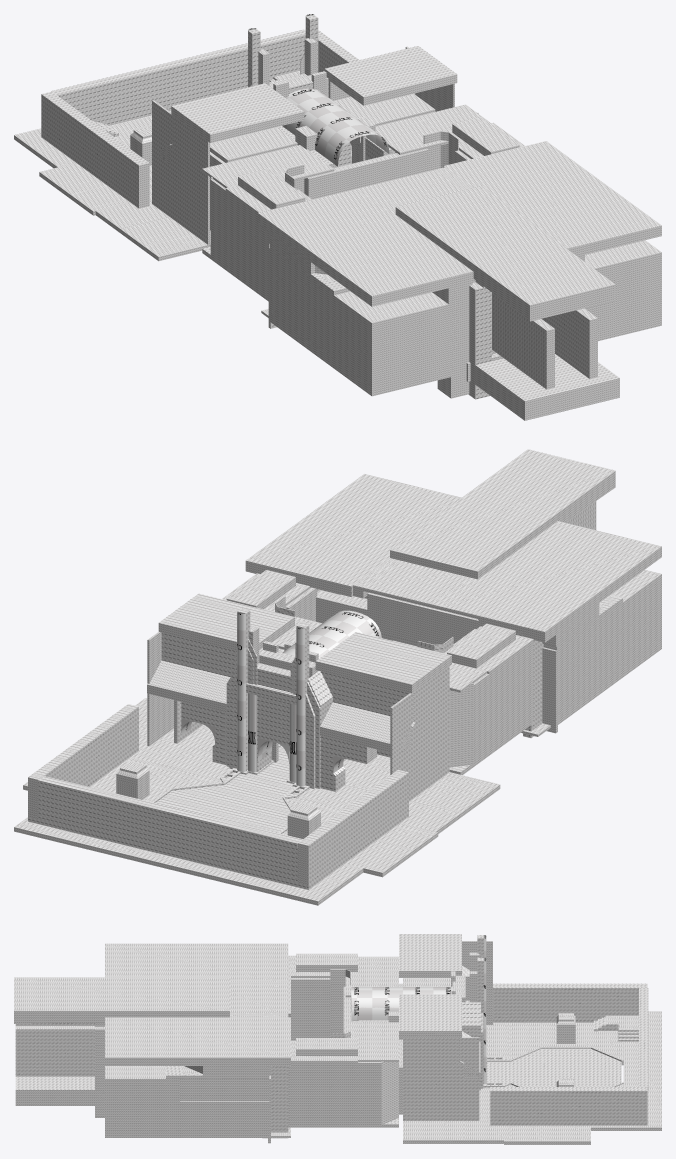
Rendered from q3dm1-clip.obj.
3 views of the same model, one above another, from view 1: azimuth 30°, elevation 25°; view 2: azimuth 150°, elevation 25°; view 3: azimuth 270°, elevation 25° (orthographic). The views are drawn at different scales.
Parts seen in each view (by area): view 1: entity0_brush381, entity0_brush154, entity0_brush153, entity0_brush58, entity0_brush40, entity0_brush144, entity0_brush174, entity0_brush22, entity0_brush24, entity0_brush151, entity0_brush56, entity0_brush148 (+36 smaller); view 2: entity0_brush381, entity0_brush154, entity0_brush153, entity0_brush58, entity0_brush40, entity0_brush22, entity0_brush24, entity0_brush56, entity0_brush202, entity0_brush244, entity0_brush384, entity0_brush57 (+42 smaller); view 3: entity0_brush381, entity0_brush153, entity0_brush154, entity0_brush39, entity0_brush57, entity0_brush340, entity0_brush150, entity0_brush56, entity0_brush24, entity0_brush22, entity0_brush138, entity0_brush173 (+47 smaller).
Boxes of the visible parts, box(x1,y1,x2,y2) form: entity0_brush381: box(395, 186, 615, 321); entity0_brush154: box(258, 189, 473, 306); entity0_brush153: box(443, 141, 661, 255); entity0_brush58: box(62, 39, 304, 123); entity0_brush40: box(152, 100, 209, 244); entity0_brush144: box(475, 354, 619, 420); entity0_brush174: box(325, 289, 450, 351); entity0_brush22: box(171, 83, 304, 143); entity0_brush24: box(324, 46, 457, 105); entity0_brush151: box(325, 317, 450, 385); entity0_brush56: box(41, 98, 149, 204); entity0_brush148: box(492, 293, 554, 389); entity0_brush381: box(390, 449, 615, 579); entity0_brush154: box(441, 521, 661, 642); entity0_brush153: box(245, 474, 461, 596); entity0_brush58: box(38, 785, 297, 882); entity0_brush40: box(390, 666, 449, 801); entity0_brush22: box(315, 632, 451, 693); entity0_brush24: box(158, 593, 294, 650); entity0_brush56: box(297, 777, 408, 885); entity0_brush202: box(64, 833, 342, 905); entity0_brush244: box(489, 642, 533, 753); entity0_brush384: box(367, 592, 478, 644); entity0_brush57: box(28, 711, 138, 819); entity0_brush381: box(14, 977, 229, 1023); entity0_brush153: box(105, 1017, 290, 1065); entity0_brush154: box(105, 943, 288, 982); entity0_brush39: box(403, 1037, 479, 1120); entity0_brush57: box(490, 1094, 647, 1122); entity0_brush340: box(288, 1063, 357, 1125); entity0_brush150: box(15, 1026, 94, 1076); entity0_brush56: box(493, 991, 638, 1018); entity0_brush24: box(399, 994, 461, 1037); entity0_brush22: box(399, 934, 461, 977); entity0_brush138: box(180, 1101, 269, 1129); entity0_brush173: box(105, 1066, 179, 1101).
Size of the model in its own units: 383 by 199 by 763.
